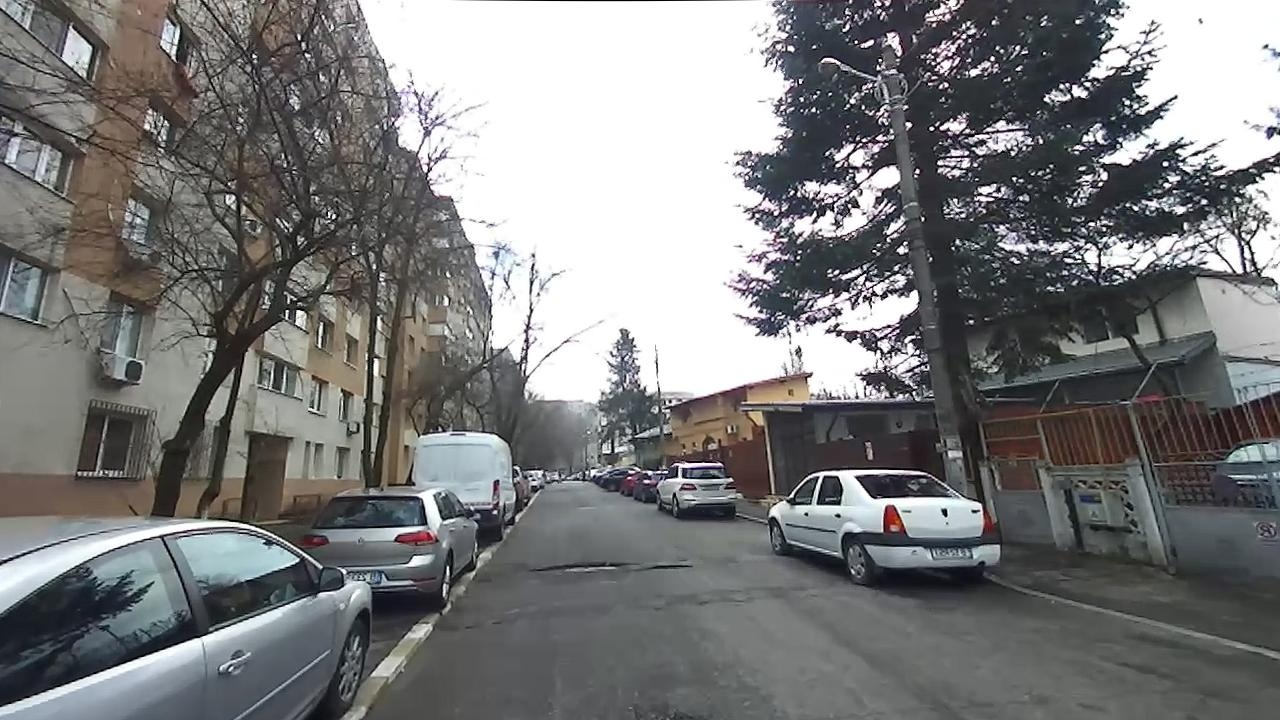pothole: (528, 555, 633, 578), (627, 698, 708, 719), (637, 557, 694, 576)
